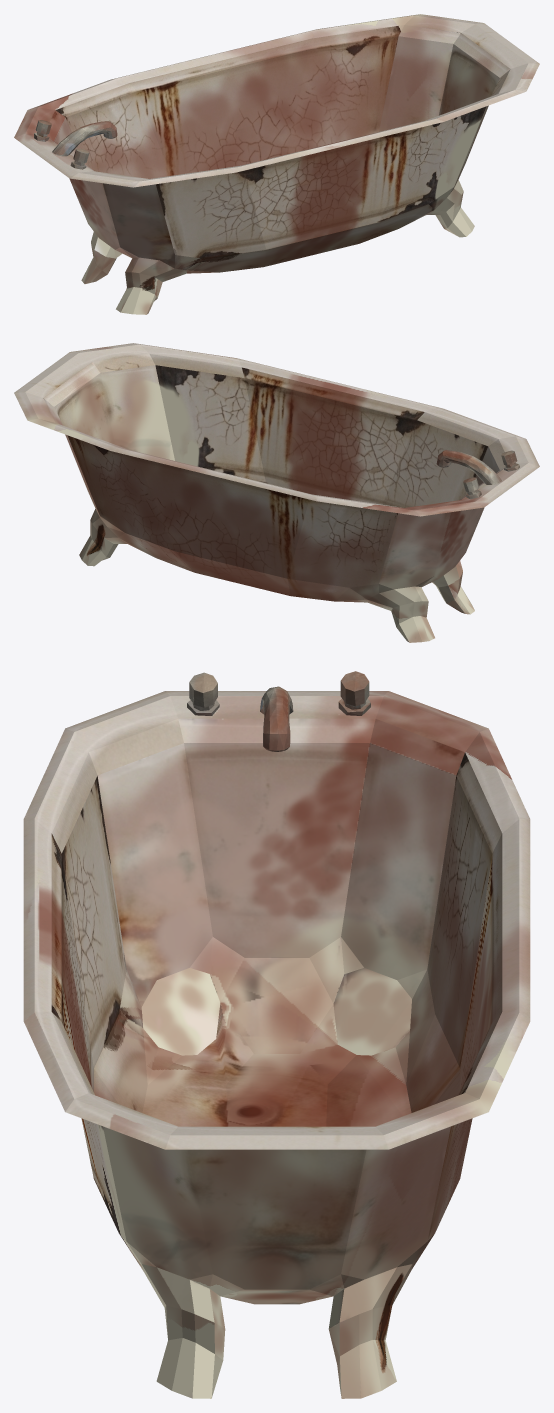
The model's file is BathTub.fbx.
3 views of the same model, one above another, from view 1: azimuth 30°, elevation 25°; view 2: azimuth 150°, elevation 25°; view 3: azimuth 270°, elevation 25° (orthographic). The views are drawn at different scales.
Visible parts, largest first — view 1: Cube.001; view 2: Cube.001; view 3: Cube.001.
Part boxes in pixels (box(x1,y1,x2,y2)): Cube.001: box(14, 14, 539, 314); Cube.001: box(14, 343, 539, 642); Cube.001: box(23, 671, 530, 1398).
Bounding box in the file's own units: 174 × 61.87 × 81.17.
Materials: 1 (1 with a texture image).
